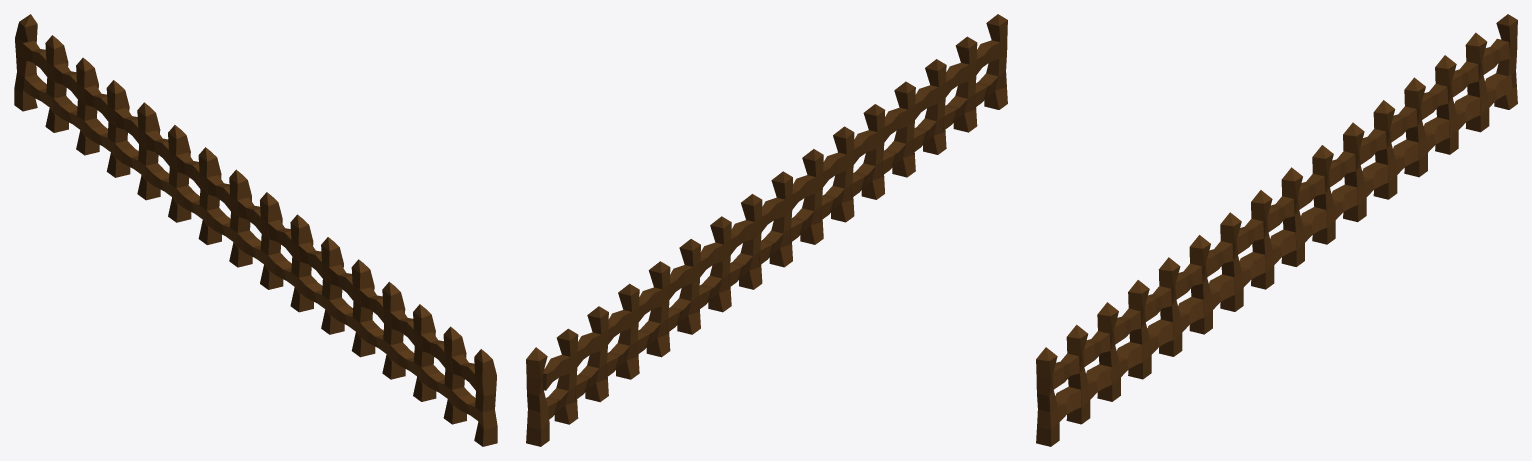
File: fence_15.fbx
3 renders of one model, left to right at view 1: azimuth 30°, elevation 25°; view 2: azimuth 150°, elevation 25°; view 3: azimuth 330°, elevation 25°, orthographic.
Parts seen in each view (by area): view 1: Cube; view 2: Cube; view 3: Cube.
Part boxes in pixels (x1,y1,x2,y2): Cube: (14, 14, 497, 446); Cube: (526, 14, 1007, 446); Cube: (1036, 14, 1517, 446).
Size of the model in its own units: 60.8 by 325 by 2965.
